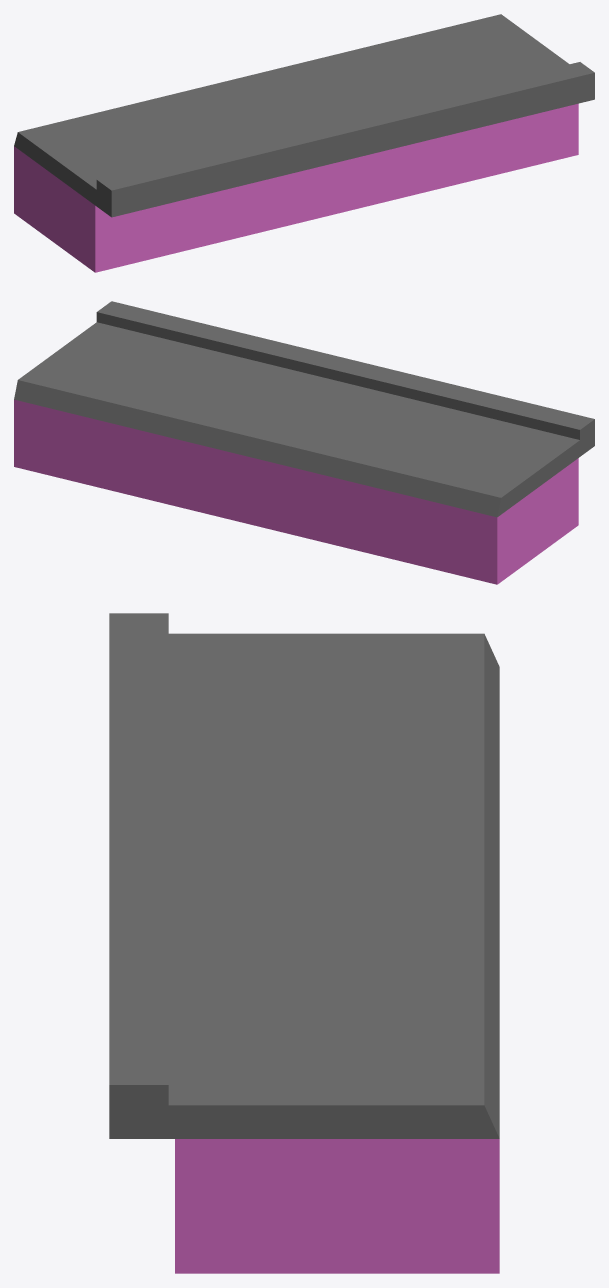
Rendered from Barrier2.fbx.
3 renders of one model, top to bottom at view 1: azimuth 30°, elevation 25°; view 2: azimuth 150°, elevation 25°; view 3: azimuth 270°, elevation 25°, orthographic. The views are drawn at different scales.
Parts seen in each view (by area): view 1: Cube; view 2: Cube; view 3: Cube.
Boxes of the visible parts, x1,y1,x2,y2 form: Cube: (14,14,594,272); Cube: (14,301,594,584); Cube: (109,613,499,1273).
Bounding box in the file's own units: 1203 × 224 × 421.
